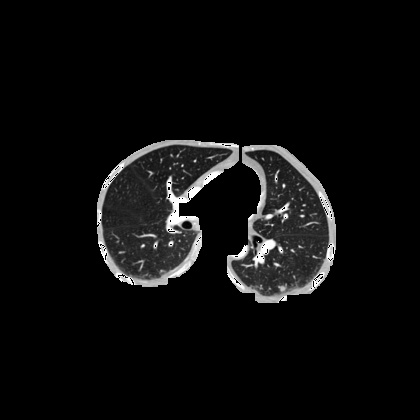PN: (280, 286, 284, 290)
